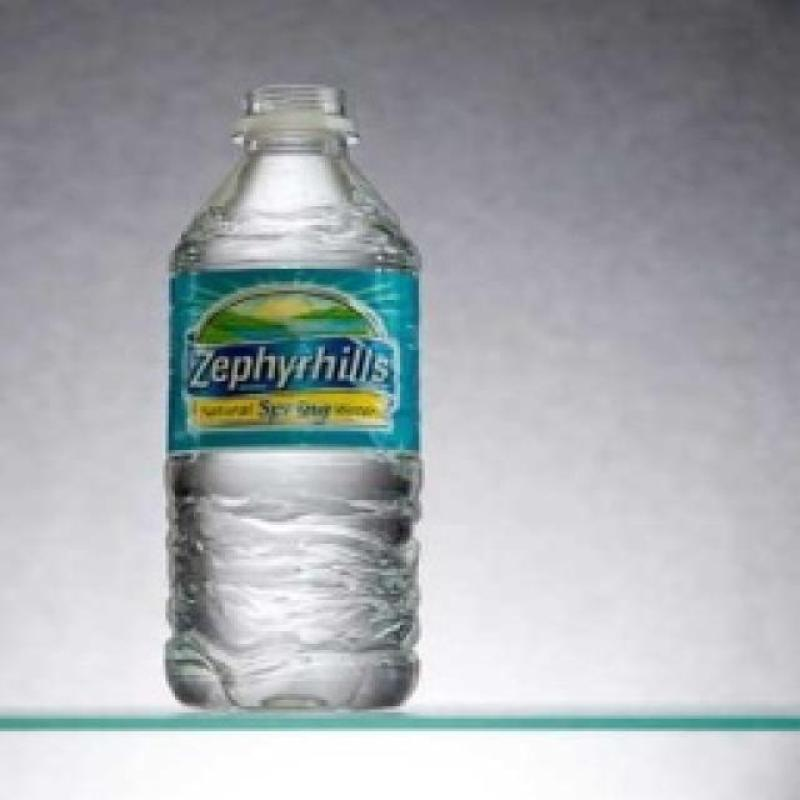botella: (169, 80, 419, 720)
